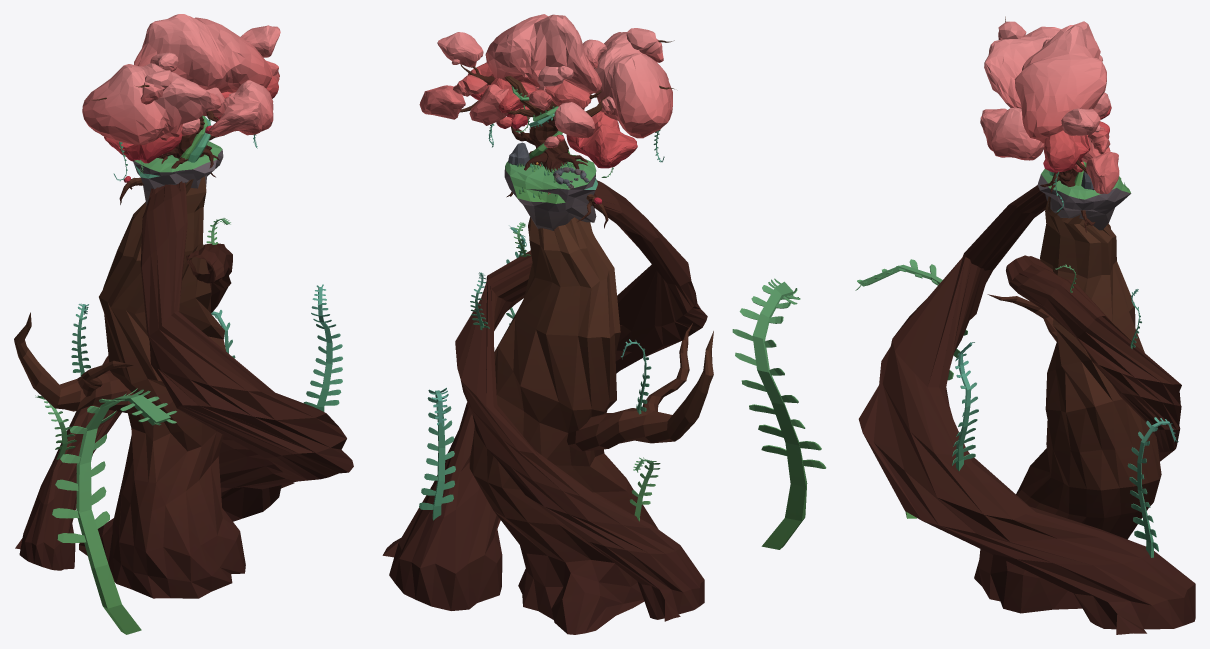
Rendered from Iland_001.FBX.
3 renders of one model, left to right at view 1: azimuth 30°, elevation 25°; view 2: azimuth 150°, elevation 25°; view 3: azimuth 270°, elevation 25°, orthographic. The views are drawn at different scales.
Parts seen in each view (by area): view 1: Iland_001; view 2: Iland_001; view 3: Iland_001.
Boxes of the visible parts, x1=… form: Iland_001: x1=14, y1=14, x2=353, y2=634; Iland_001: x1=382, y1=14, x2=826, y2=634; Iland_001: x1=855, y1=16, x2=1195, y2=634.
Bounding box in the file's own units: 23.87 × 38.15 × 20.75.
